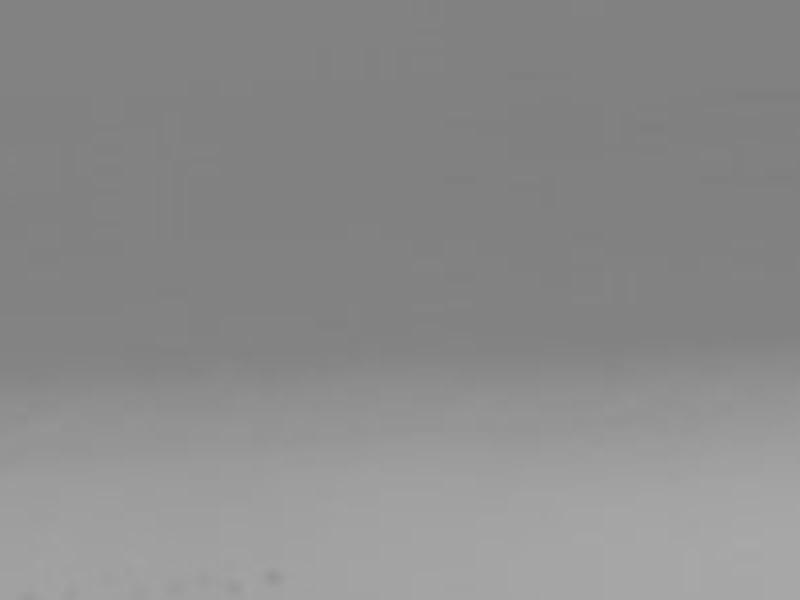defect: (216, 580, 251, 598), (263, 566, 283, 588)
